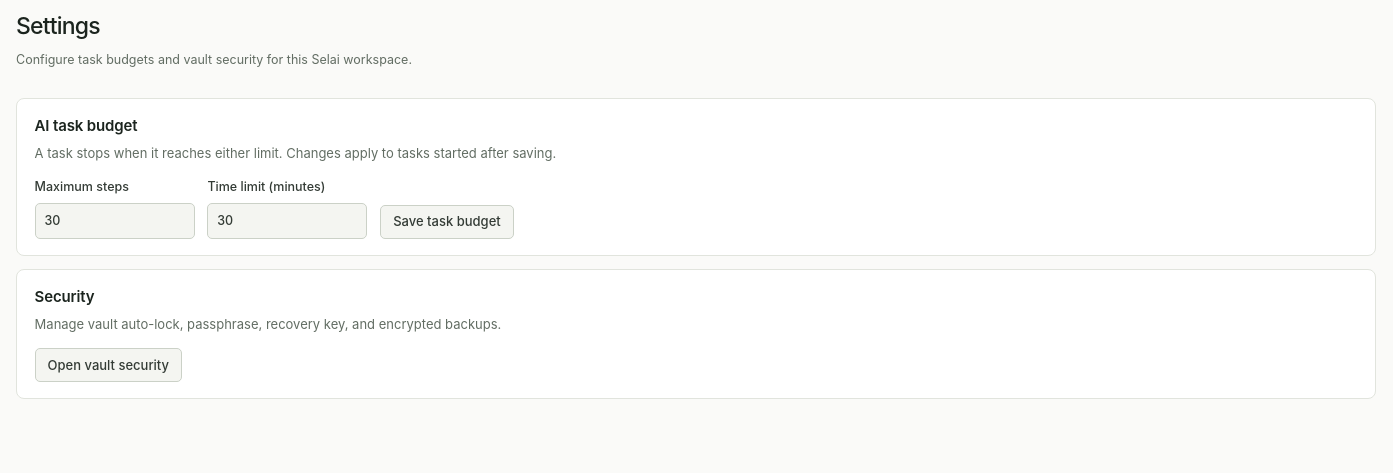
it: SettingsPage › loads and saves the AI task budget
Replace the text in the number field labelled "Maximum steps" with "120" at [115, 221], box [35, 203, 195, 239]
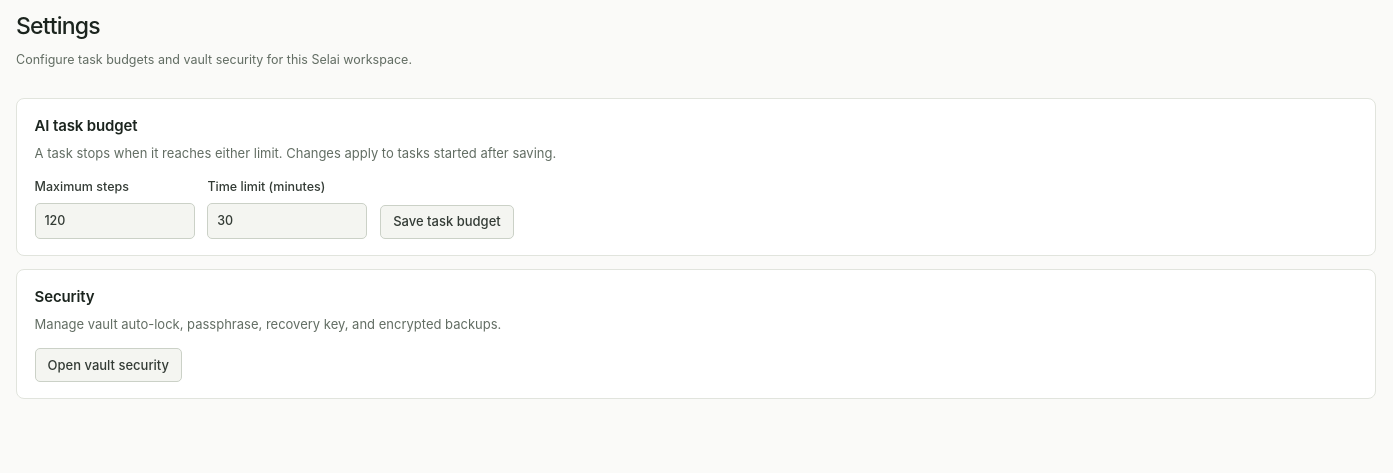
Replace the text in the number field labelled "Time limit (minutes)" with "90" at [287, 221], box [207, 203, 367, 239]
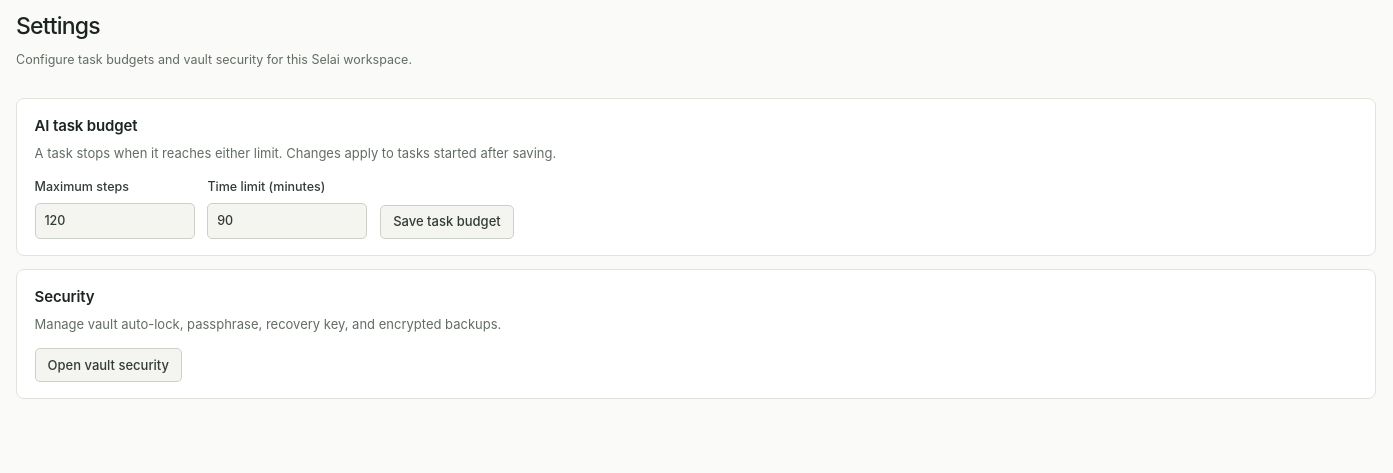
Click the button "Save task budget" at [447, 222], box [380, 205, 514, 239]
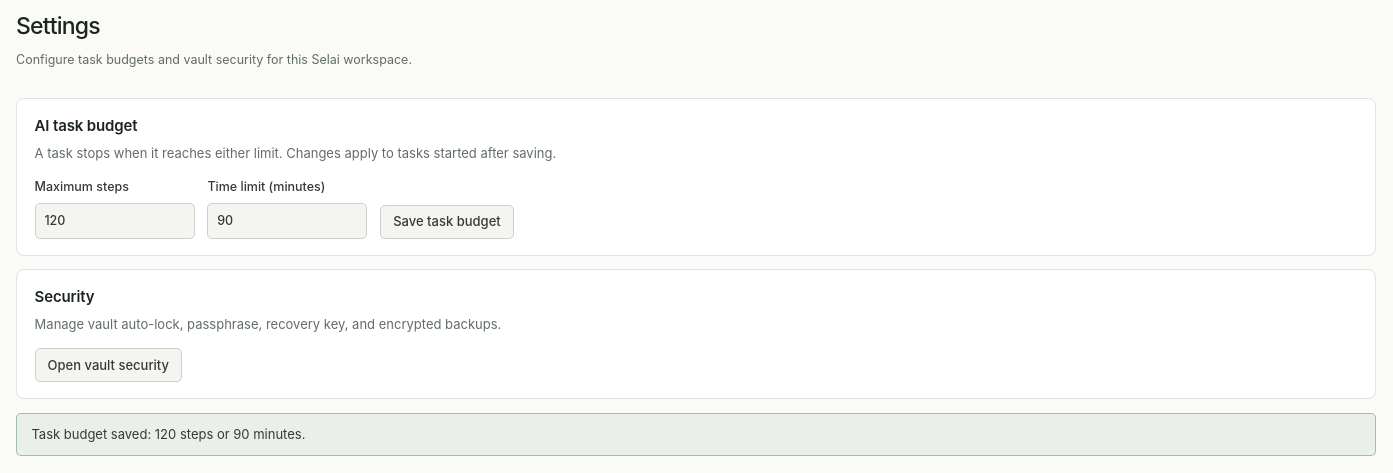
Expected: the message shows "120 steps or 90 minutes", [31, 426, 305, 442]
